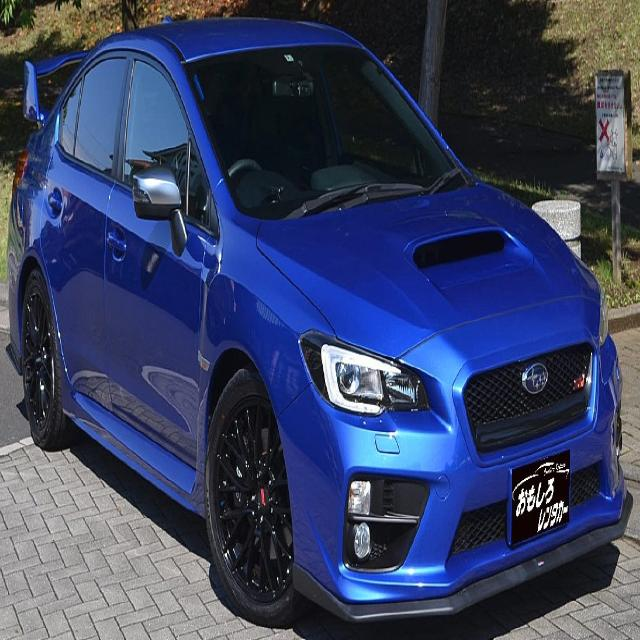blue: (8, 14, 632, 622)
